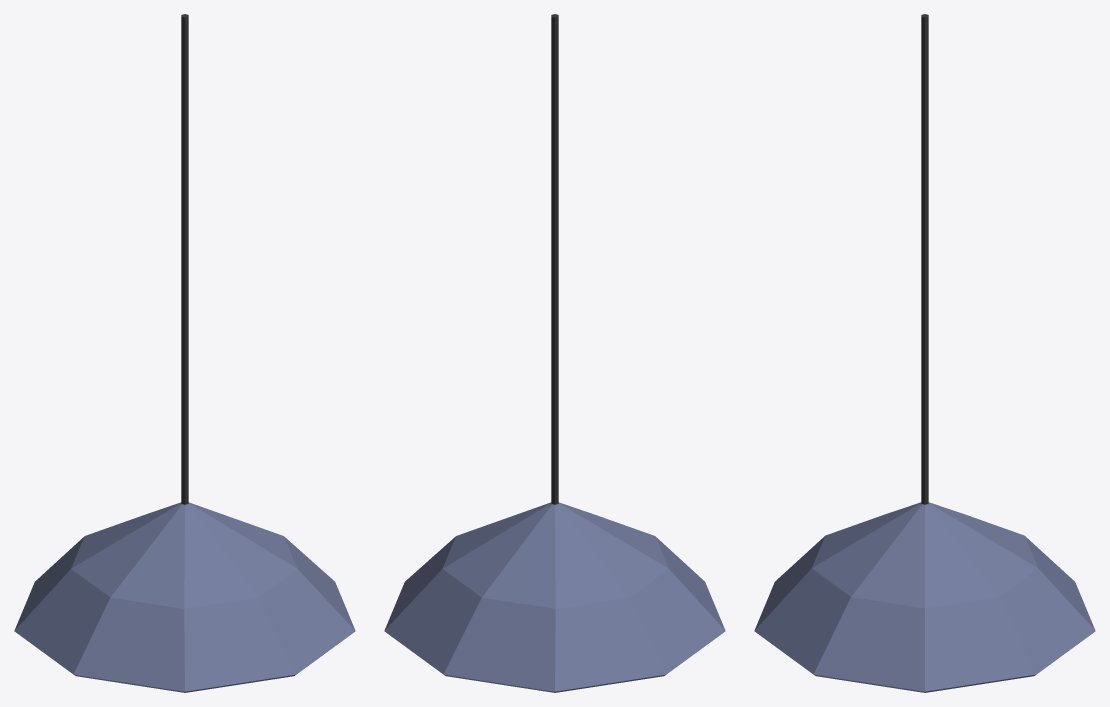
The model's file is lampLight.fbx.
The picture shows the model from 3 angles, left to right: view 1: azimuth 30°, elevation 25°; view 2: azimuth 150°, elevation 25°; view 3: azimuth 270°, elevation 25°; orthographic projection.
Visible parts, largest first — view 1: cone, pole; view 2: cone, pole; view 3: cone, pole.
Part boxes in pixels (x1,y1,x2,y2): cone: [14, 502, 355, 692]; pole: [181, 14, 188, 504]; cone: [384, 502, 725, 692]; pole: [551, 14, 558, 504]; cone: [754, 502, 1095, 692]; pole: [921, 14, 928, 504].
Bounding box in the file's own units: 79.07 × 168 × 80.29.
